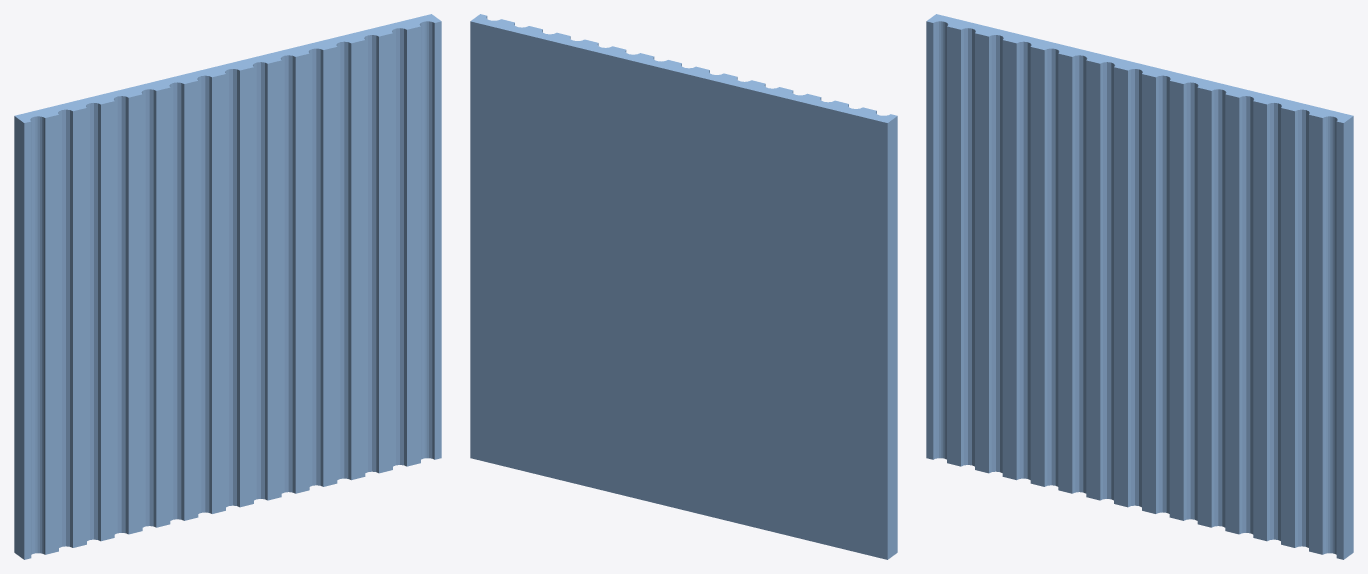
Rendered from omega2.glb.
The picture shows the model from 3 angles, left to right: view 1: azimuth 30°, elevation 25°; view 2: azimuth 150°, elevation 25°; view 3: azimuth 330°, elevation 25°; orthographic projection.
Visible parts, largest first — view 1: OMEGA_2; view 2: OMEGA_2; view 3: OMEGA_2.
Part boxes in pixels (left/top/right/bottom): OMEGA_2: left=14, top=14, right=441, bottom=559; OMEGA_2: left=470, top=14, right=897, bottom=559; OMEGA_2: left=926, top=14, right=1353, bottom=559.
Size of the model in its own units: 600 by 600 by 25.
